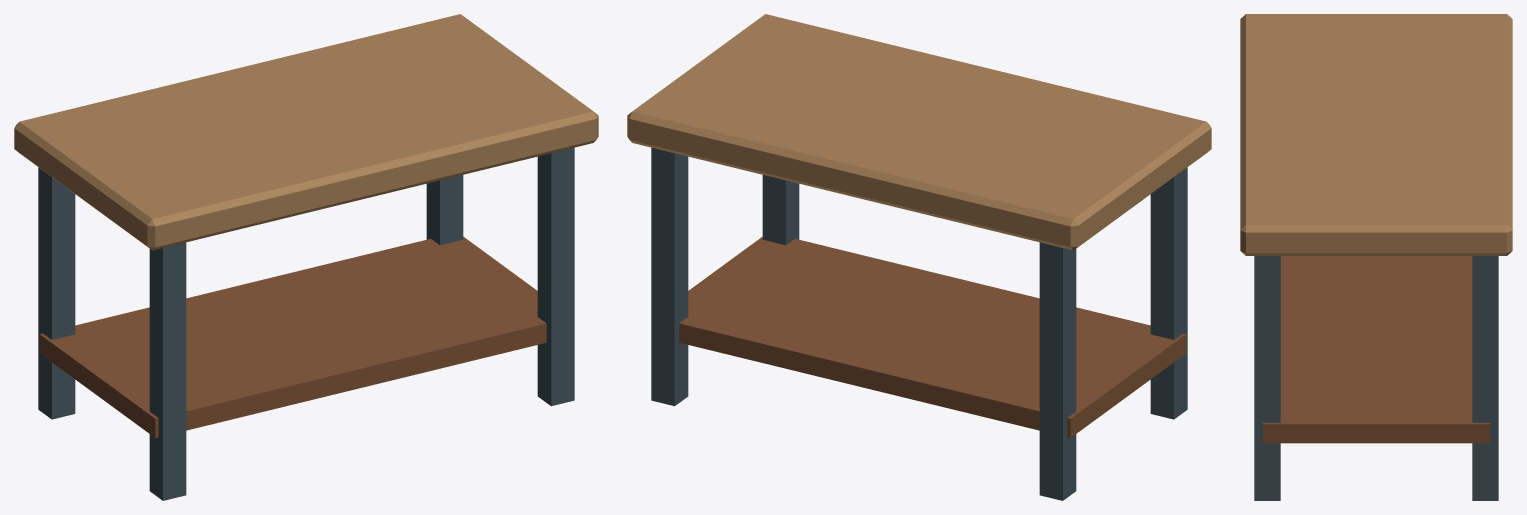
File: console_table.glb
The picture shows the model from 3 angles, left to right: view 1: azimuth 30°, elevation 25°; view 2: azimuth 150°, elevation 25°; view 3: azimuth 270°, elevation 25°; orthographic projection.
Parts seen in each view (by area): view 1: console_table; view 2: console_table; view 3: console_table.
Part boxes in pixels (left/top/right/bottom): console_table: left=14, top=14, right=598, bottom=500; console_table: left=627, top=14, right=1211, bottom=500; console_table: left=1240, top=14, right=1512, bottom=500.
Bounding box in the file's own units: 1.35 × 0.825 × 0.72.
